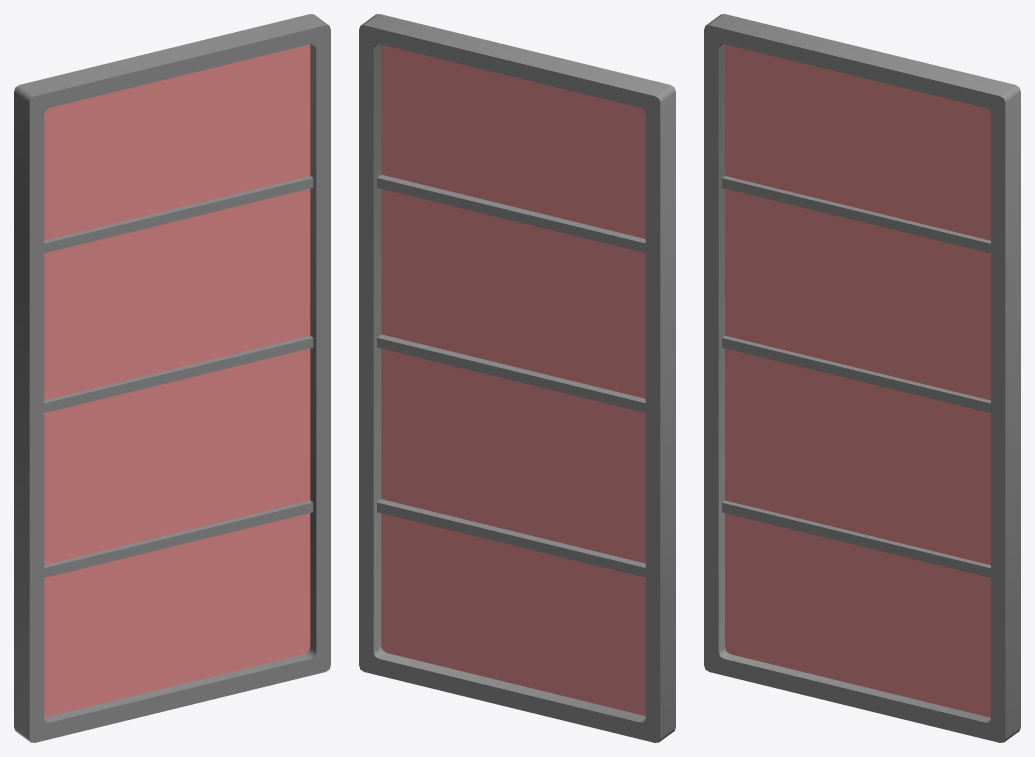
File: S_Envi_Common_HBuilding_02p.gltf
The picture shows the model from 3 angles, left to right: view 1: azimuth 30°, elevation 25°; view 2: azimuth 150°, elevation 25°; view 3: azimuth 330°, elevation 25°; orthographic projection.
Parts seen in each view (by area): view 1: S_Envi_Common_HBuilding_02p; view 2: S_Envi_Common_HBuilding_02p; view 3: S_Envi_Common_HBuilding_02p.
Boxes of the visible parts, x1,y1,x2,y2 form: S_Envi_Common_HBuilding_02p: (14,14,330,742); S_Envi_Common_HBuilding_02p: (359,14,675,742); S_Envi_Common_HBuilding_02p: (704,14,1020,742).
Bounding box in the file's own units: 1.12 × 2.29 × 0.0995.
